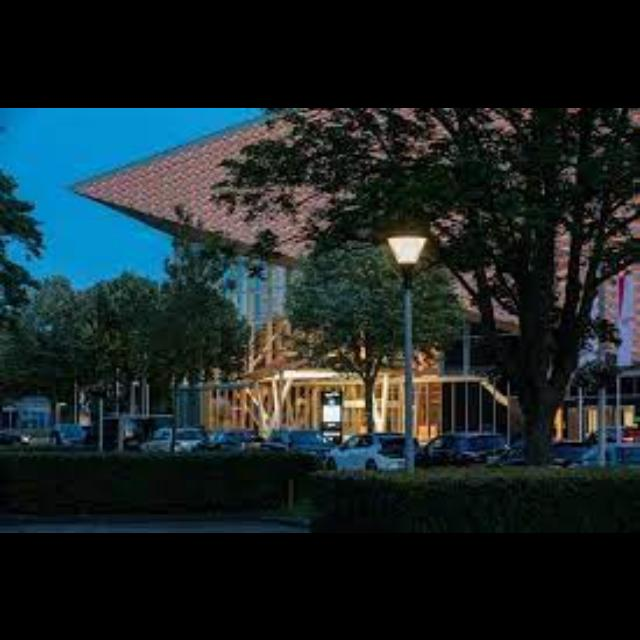Street-Lamp: (386, 234, 432, 478)
